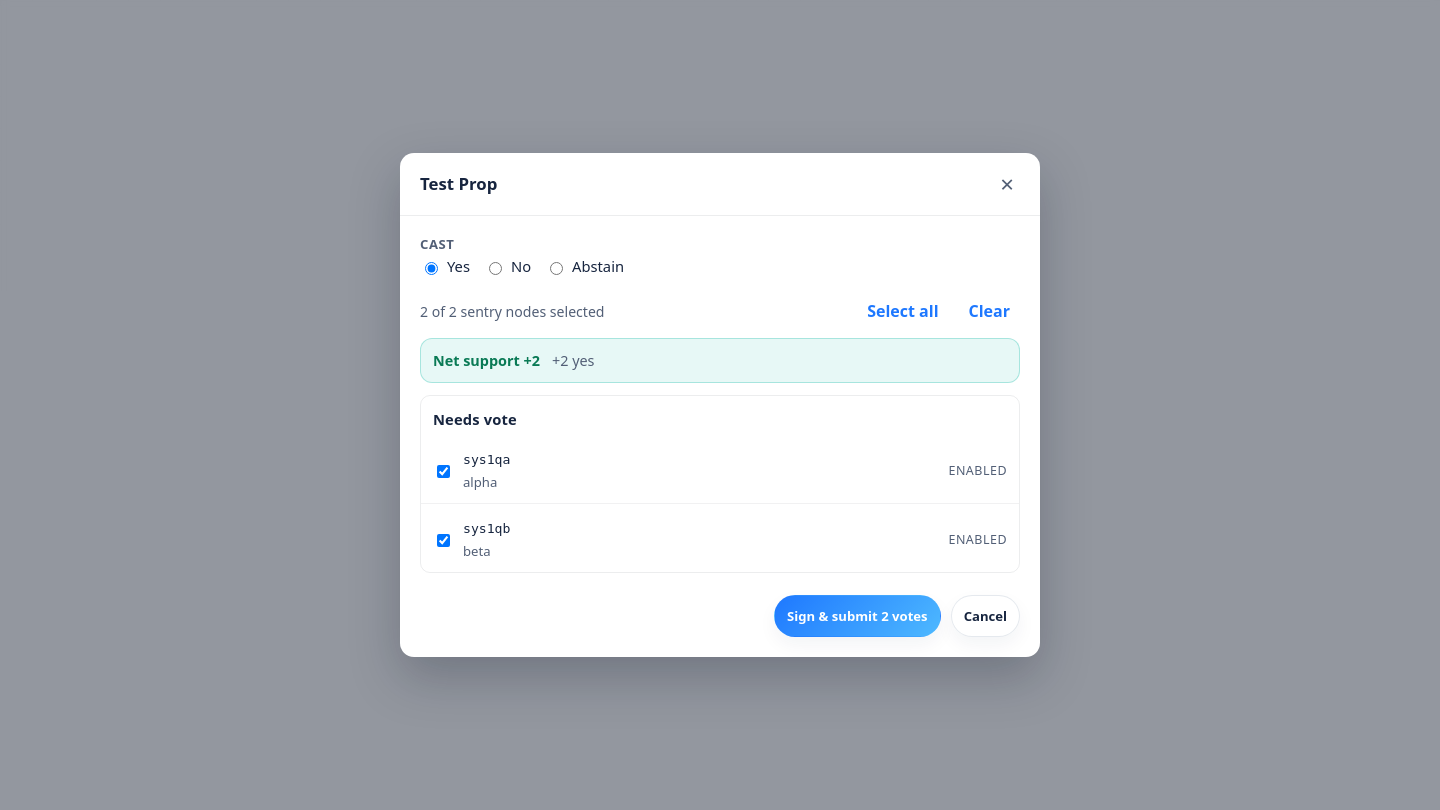
ProposalVoteModal — happy-path voting › deselecting an MN shrinks the submitted batch
The image size is (1440, 810).
Expected: the element with test id "vote-modal-list" is shown, left=420, top=395, right=1020, bottom=573
Click the checkbox labelled "sys1qb beta ENABLED": (444, 540) left=437, top=534, right=450, bottom=547
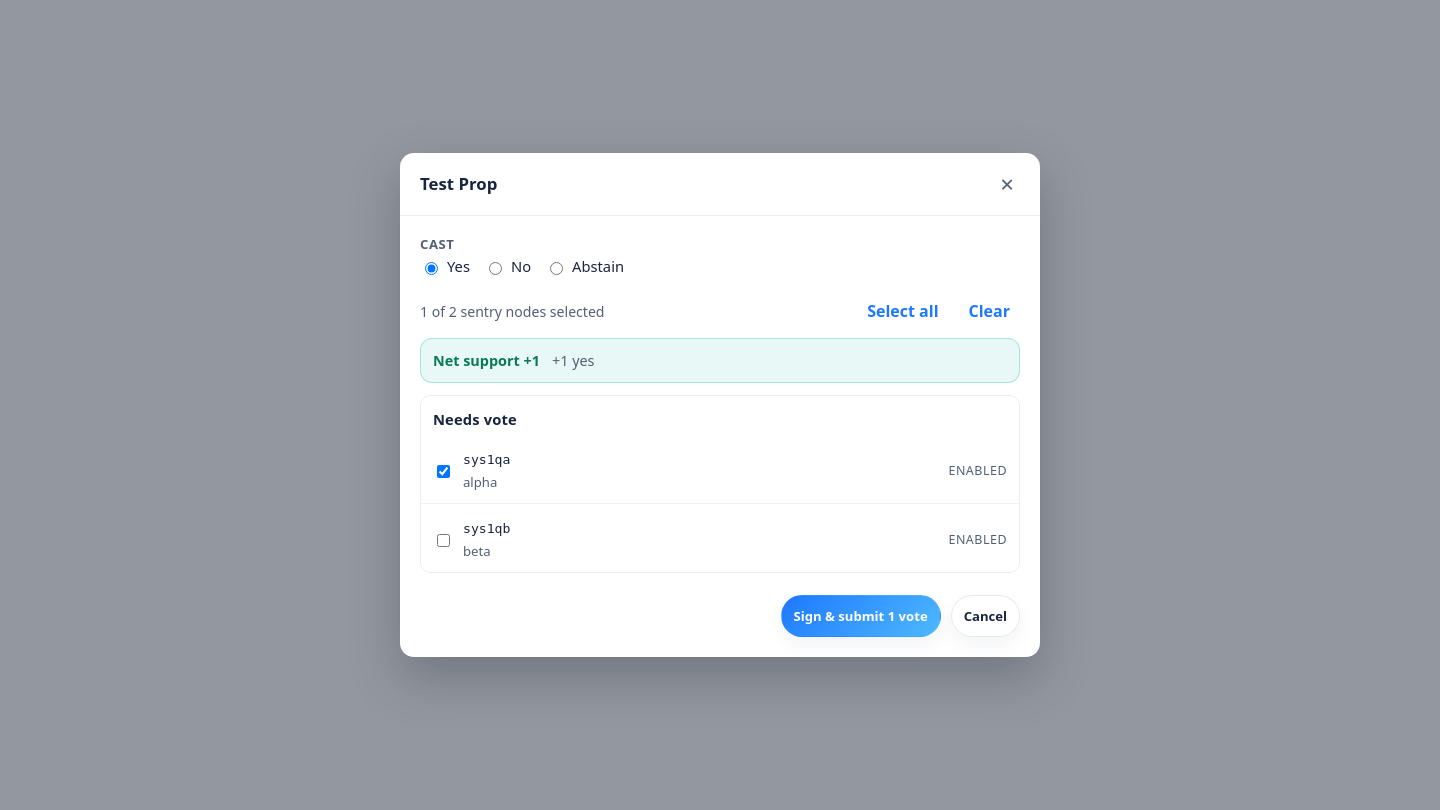
Now the button with test id "vote-modal-submit" shows "1 vote"
Click the button with test id "vote-modal-submit": (861, 616) left=780, top=595, right=941, bottom=637
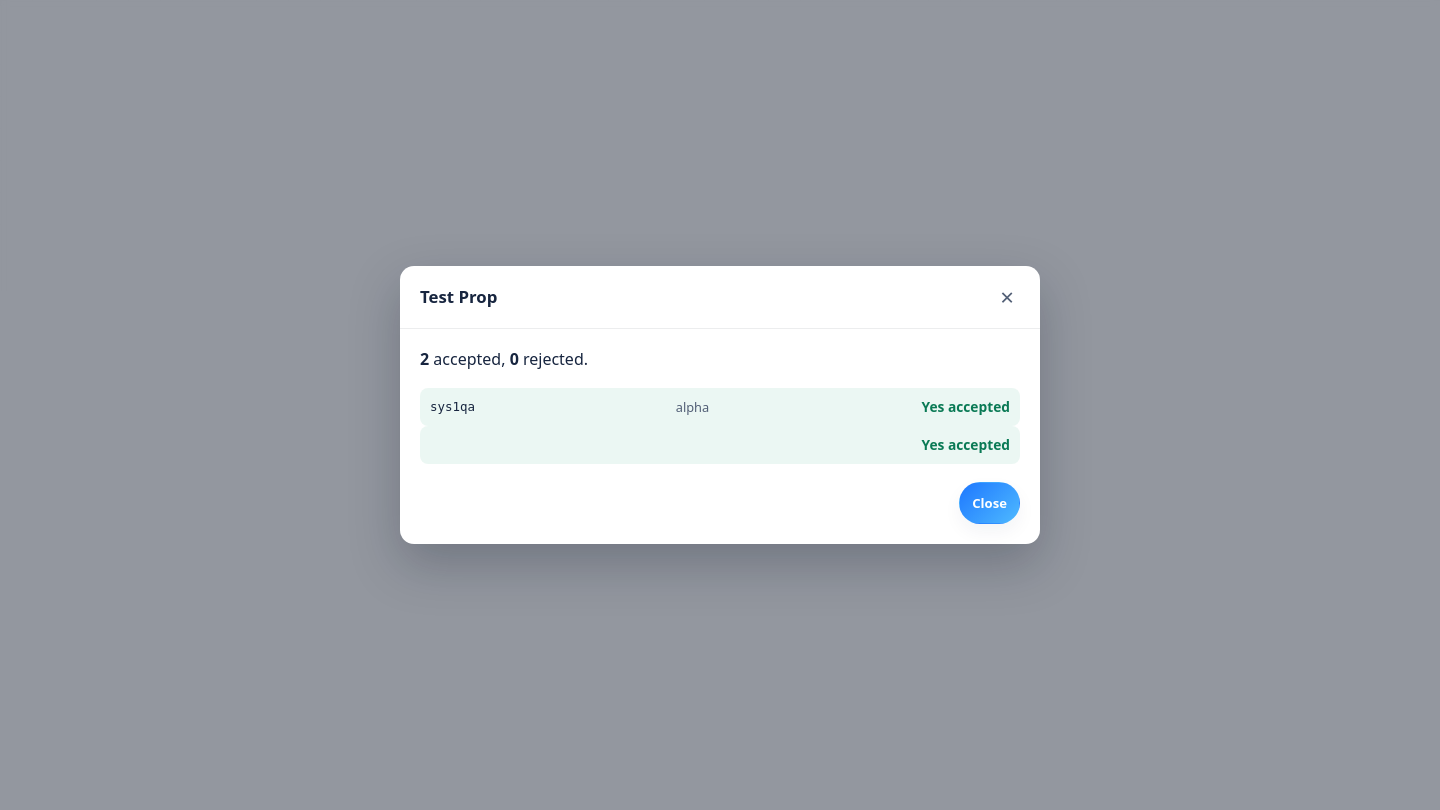
Now the element with test id "vote-modal-done" is shown, box left=420, top=347, right=1020, bottom=524
